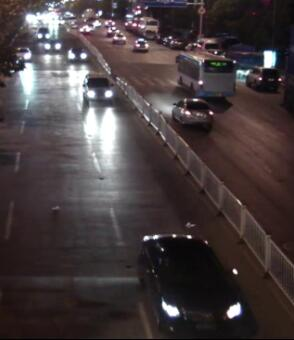bus: (173, 49, 237, 99), (132, 13, 157, 38), (123, 12, 133, 32)
car: (139, 233, 248, 338), (170, 98, 214, 129), (227, 42, 263, 71), (81, 72, 115, 102), (245, 67, 283, 91), (196, 36, 225, 55), (66, 45, 87, 62), (42, 37, 62, 54), (5, 53, 23, 70), (13, 45, 32, 61), (35, 26, 51, 41), (133, 37, 149, 52), (112, 31, 126, 44), (170, 37, 185, 49), (106, 25, 120, 36), (184, 41, 199, 51), (79, 24, 91, 34), (68, 19, 80, 29), (161, 36, 172, 46), (92, 18, 102, 28), (104, 18, 114, 26)
